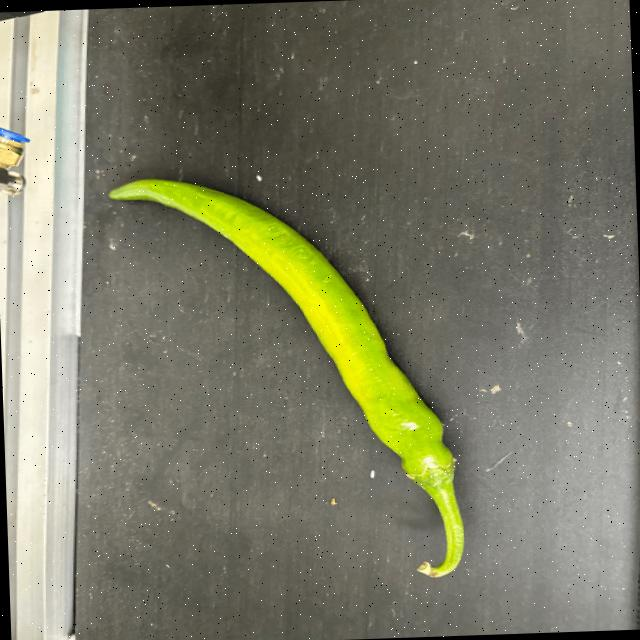chili: (106, 176, 457, 492)
